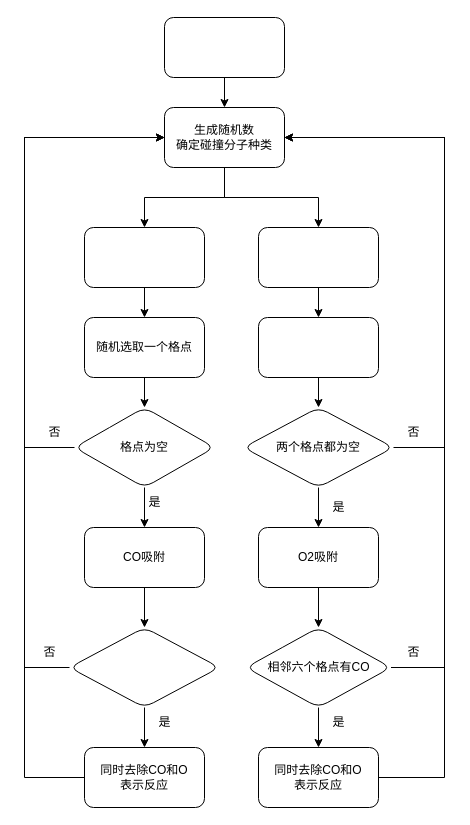
This 470x825 diagram has some shape labels left out. Here are the shapes that lost their labels. From the top down, the centre of each, then its label:
At point 224,47: "设置CO和O 2 与表面碰撞的概率".
At point 144,257: "CO碰撞".
At point 318,257: "O2碰撞".
At point 318,347: "随机选取 两个相邻格点".
At point 144,667: "相邻四个格点有O".
